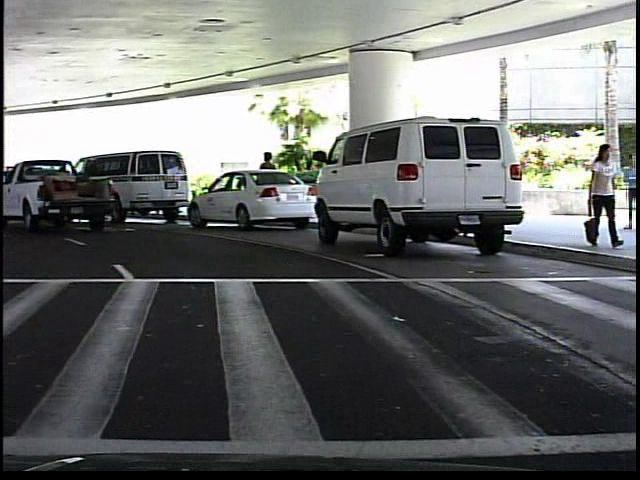person: (583, 140, 617, 250), (256, 148, 282, 216), (619, 153, 640, 236)
